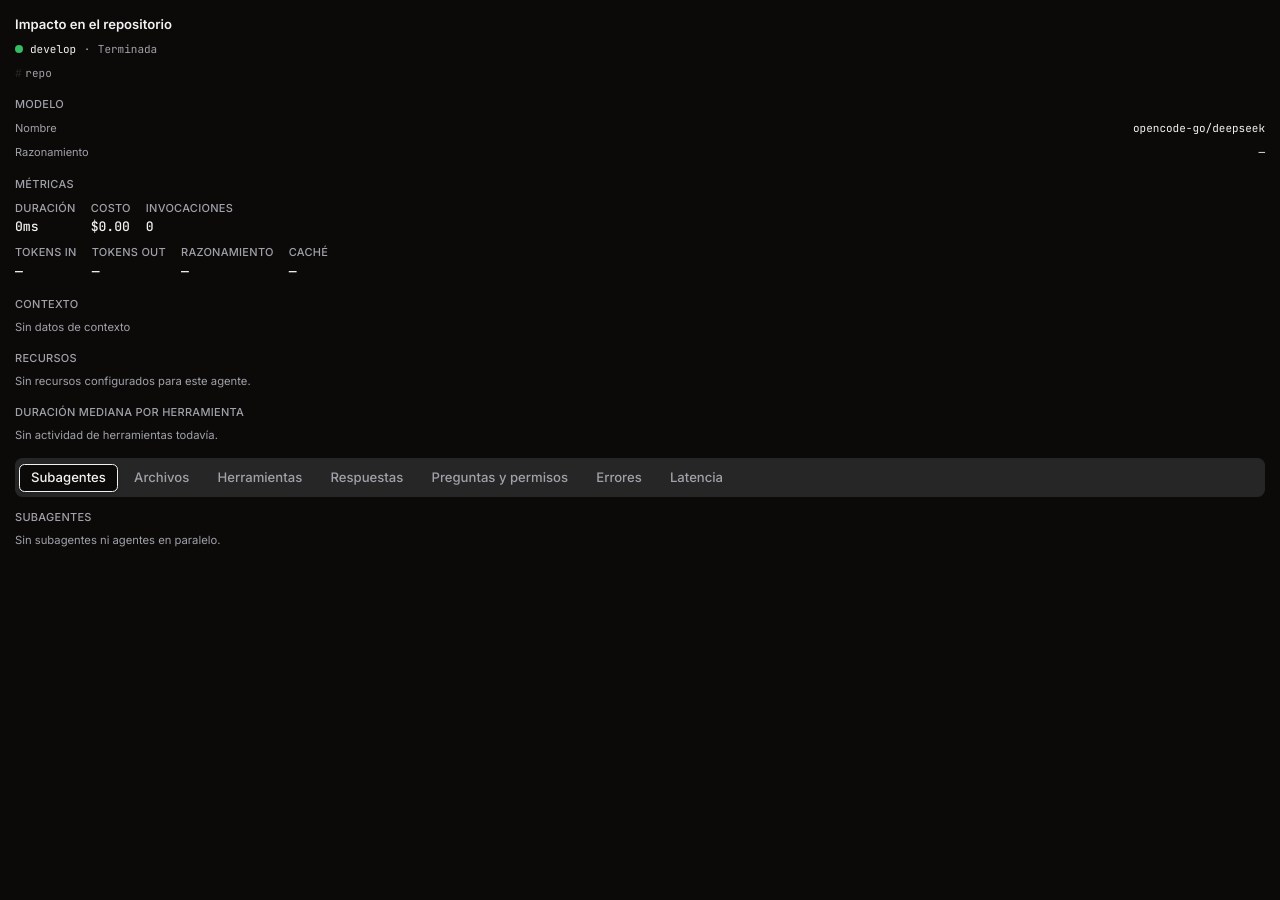
InspectorPanel — estados de servicio de Archivos y Preguntas y permisos (§5) › con diff y formularios en 404 muestra error en ambas secciones y nunca el vacío, sin romper el panel
Click the tab "Archivos" at (162, 478), box [122,464,201,492]
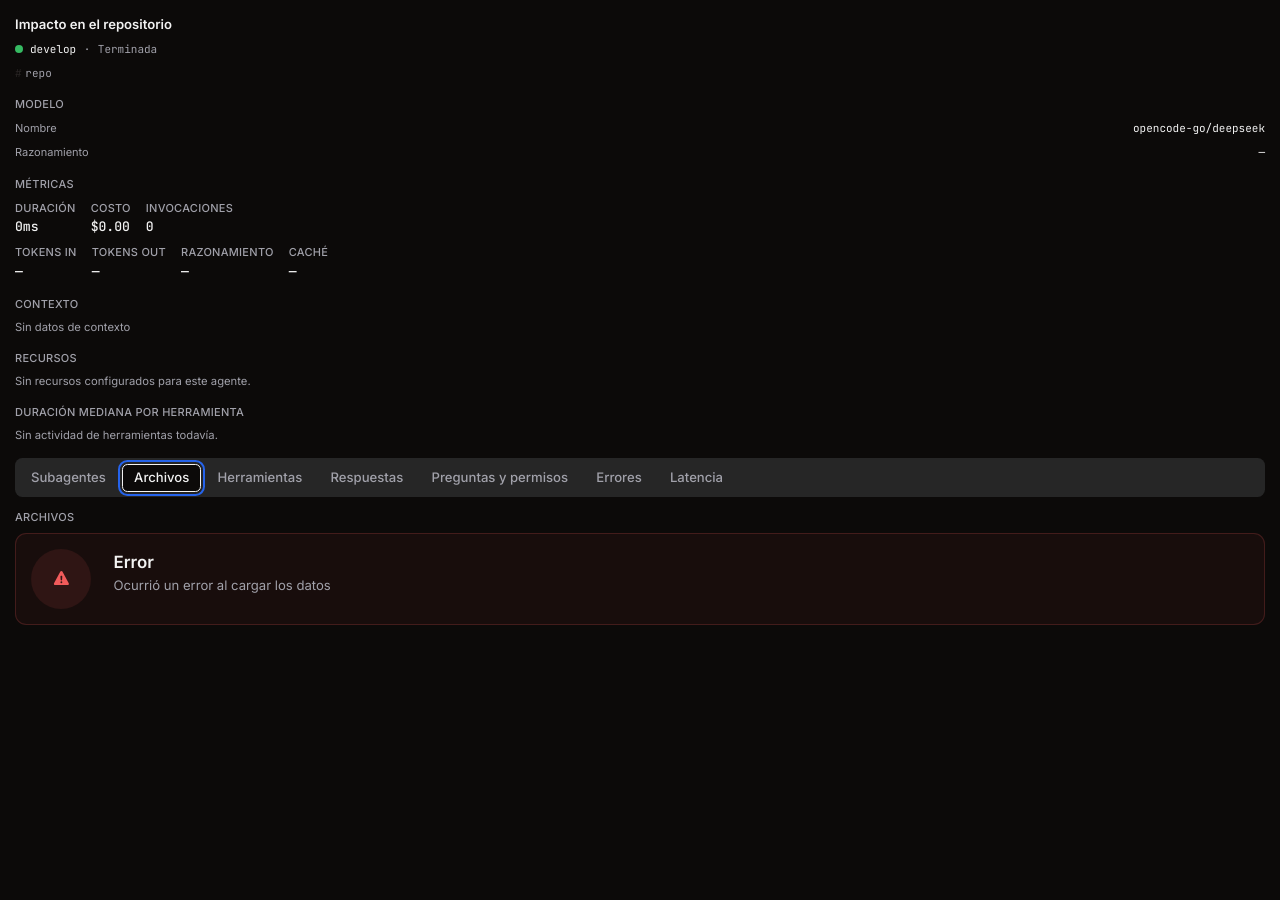
Now the text "Ocurrió un error al cargar los datos" is shown, box [114,575,331,596]
Click the tab "Preguntas y permisos" at (500, 478), box [419,464,580,492]
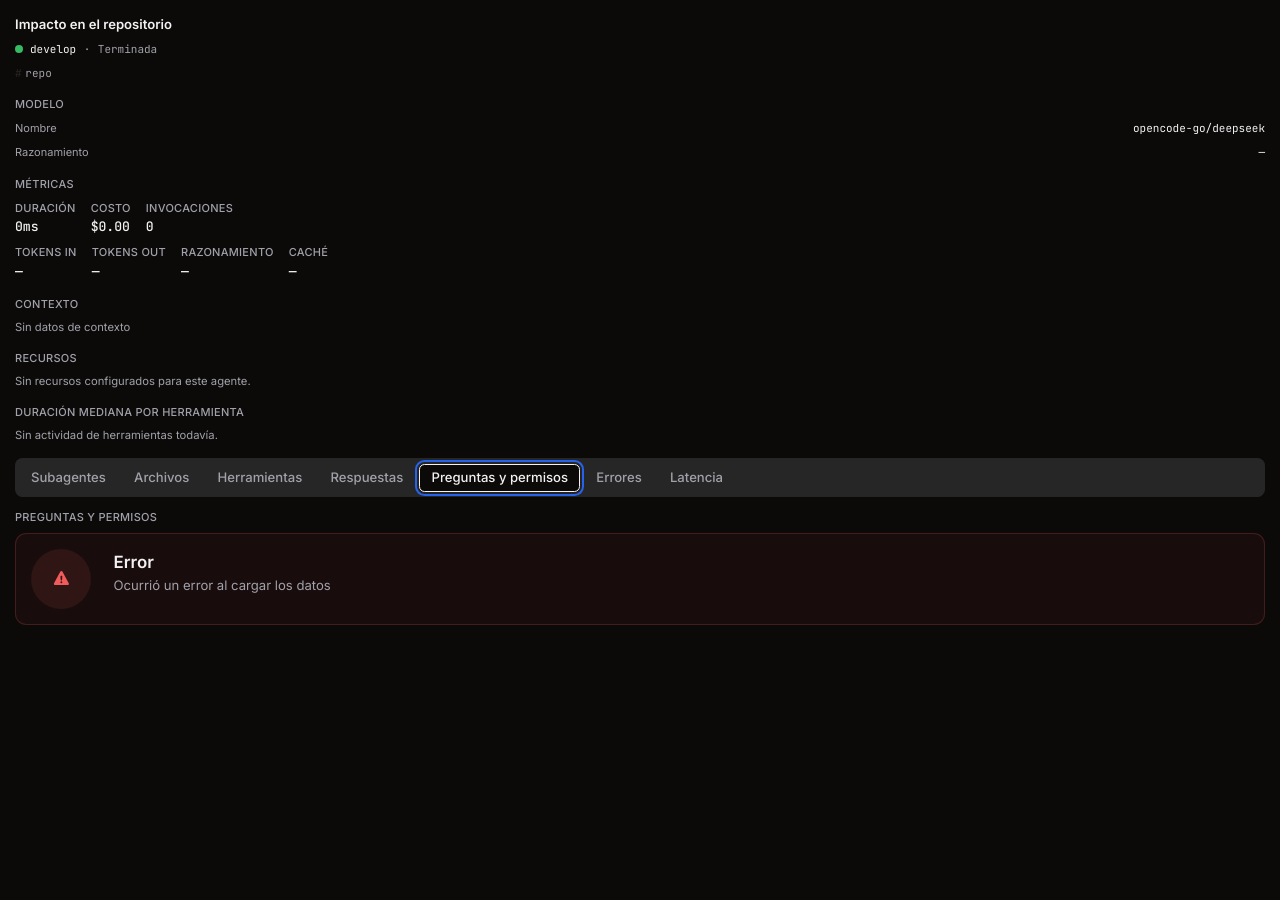
Expected: the text "Impacto en el repositorio" is shown, [15,15,172,33]
Now the text "Ocurrió un error al cargar los datos" is shown, box [114,575,331,596]
Click the tab "Errores" at (619, 478), box [584,464,654,492]
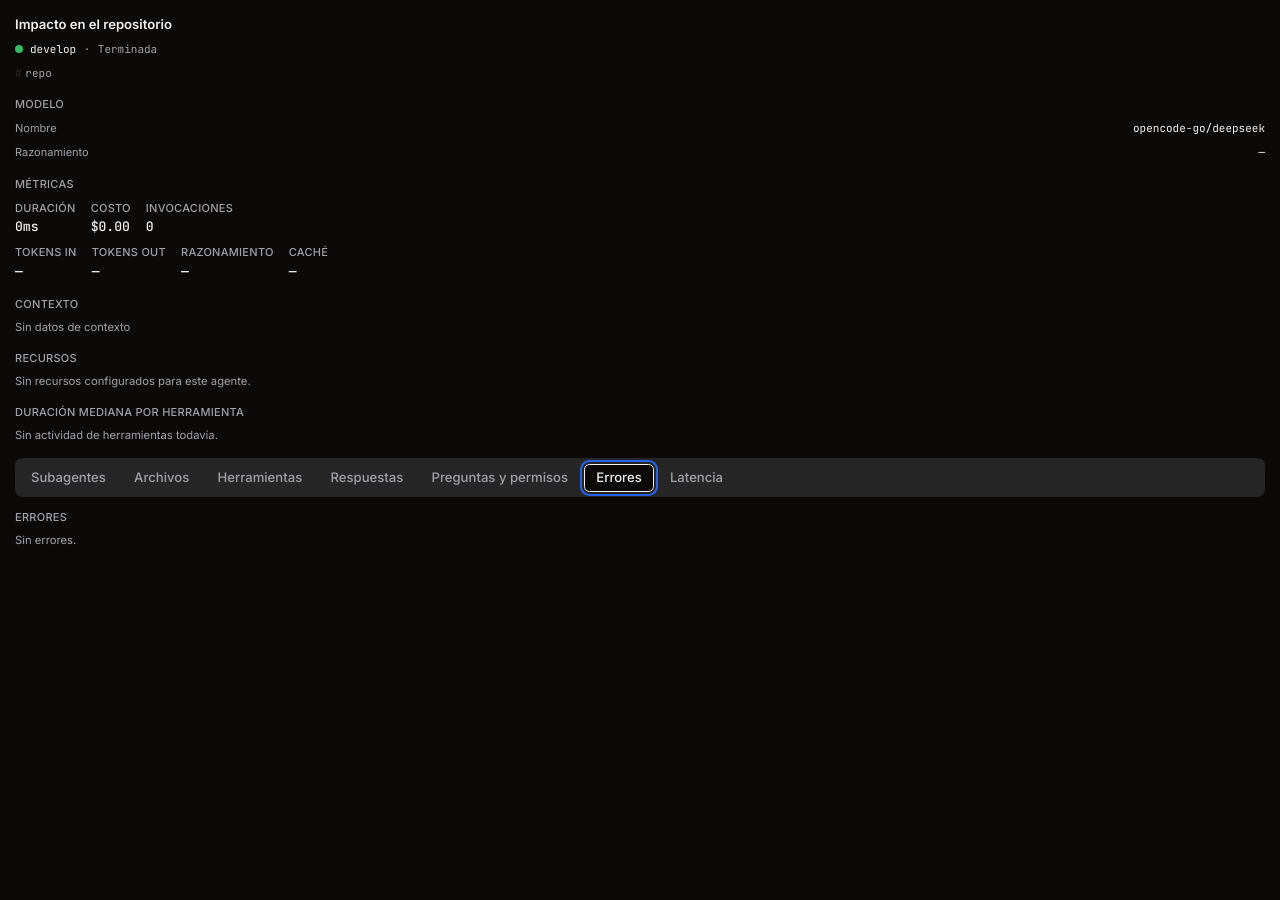
Now the text "Sin errores." is shown, box [15,532,76,546]
Click the tab "Archivos" at (162, 478), box [122,464,201,492]
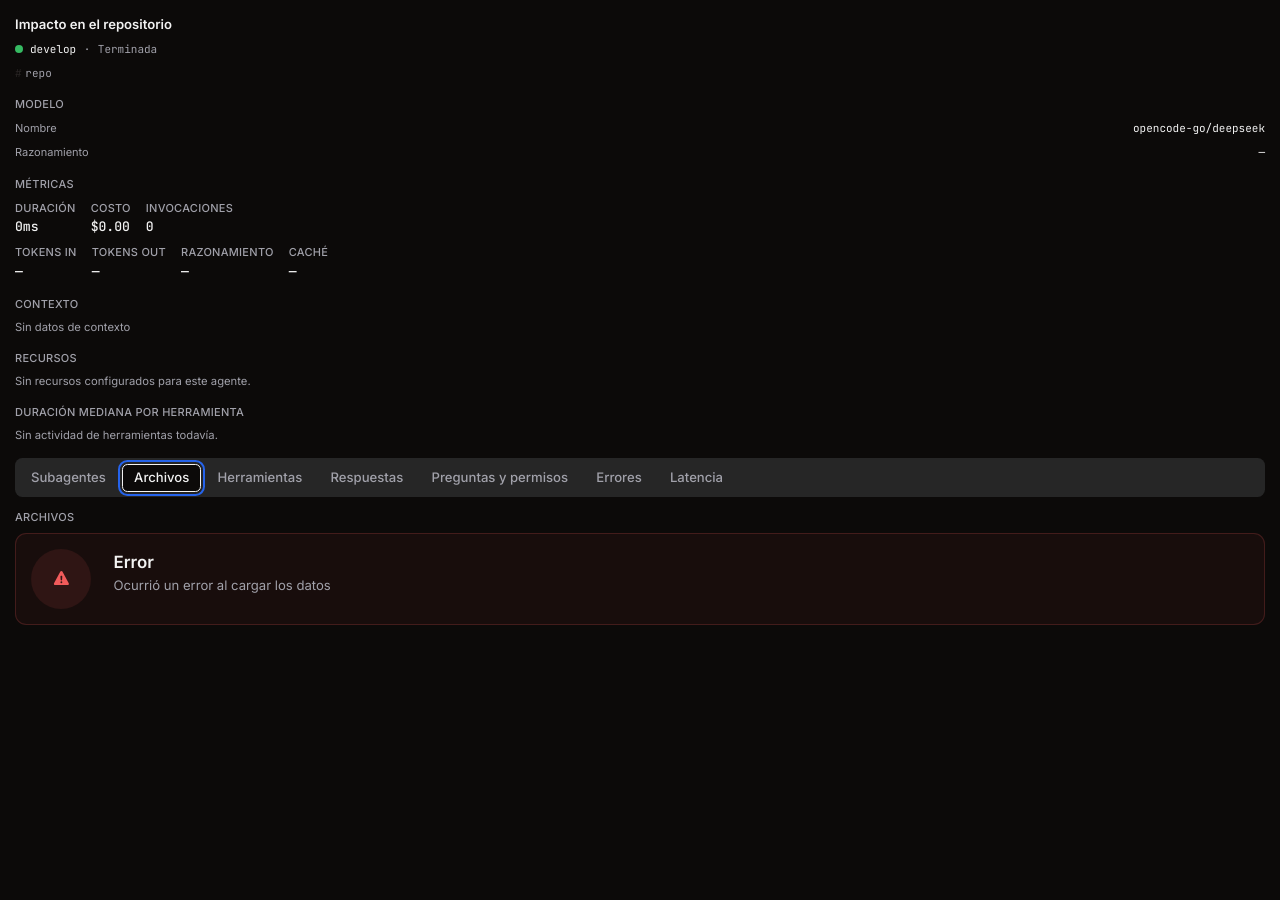
Now the text "Ocurrió un error al cargar los datos" is shown, box [114,575,331,596]
